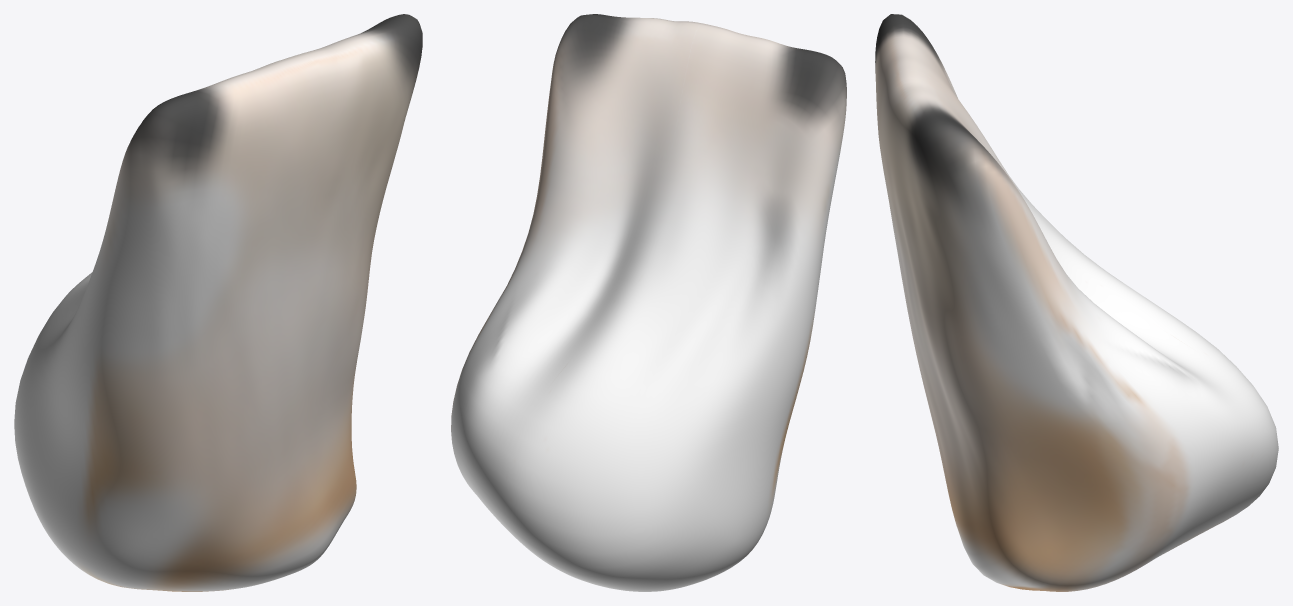
File: 31_class_6.glb
3 views of the same model, side by side, from view 1: azimuth 30°, elevation 25°; view 2: azimuth 150°, elevation 25°; view 3: azimuth 270°, elevation 25° (orthographic). The views are drawn at different scales.
Visible parts, largest first — view 1: 31; view 2: 31; view 3: 31.
Part boxes in pixels (bbox=[...]): 31: bbox=[14, 14, 422, 591]; 31: bbox=[451, 14, 846, 591]; 31: bbox=[875, 14, 1278, 591].
Bounding box in the file's own units: 0.188 × 0.3196 × 0.2304.
1 material, 1 textured.
